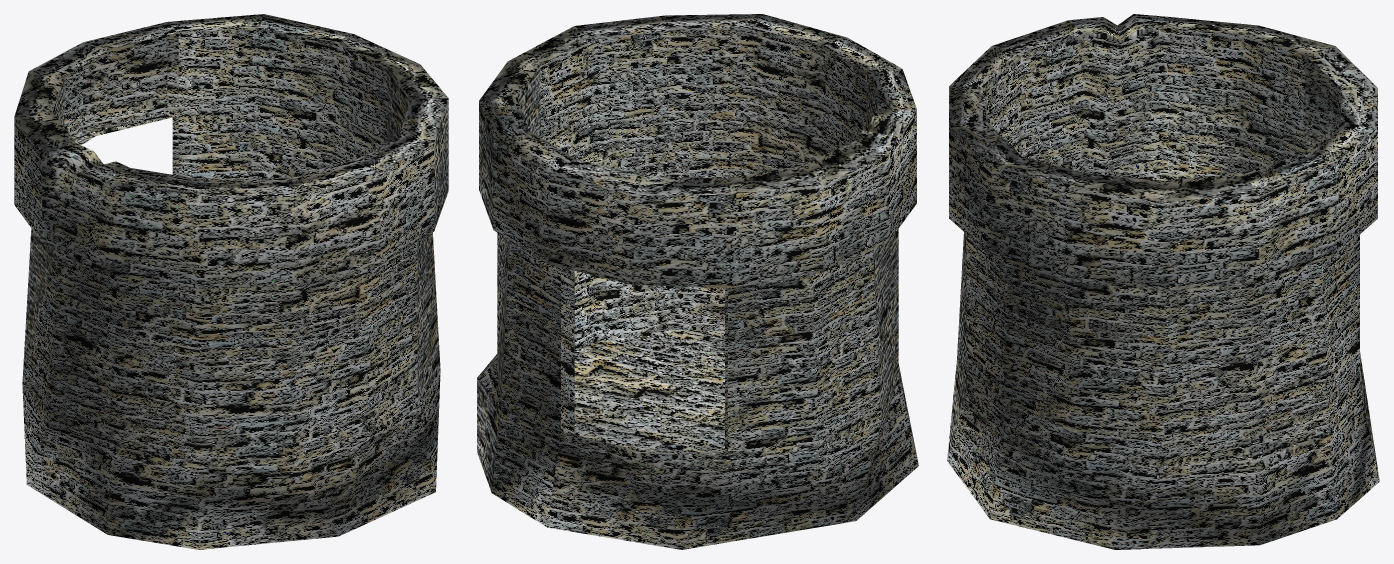
Rendered from tavern_fireplace_LOD.fbx.
The picture shows the model from 3 angles, left to right: view 1: azimuth 30°, elevation 25°; view 2: azimuth 150°, elevation 25°; view 3: azimuth 270°, elevation 25°; orthographic projection.
Visible parts, largest first — view 1: Default_Layer; view 2: Default_Layer; view 3: Default_Layer.
Part boxes in pixels (left/top/right/bottom): Default_Layer: left=14, top=14, right=448, bottom=549; Default_Layer: left=477, top=14, right=918, bottom=549; Default_Layer: left=947, top=14, right=1379, bottom=549.
Bounding box in the file's own units: 198 × 177 × 195.
